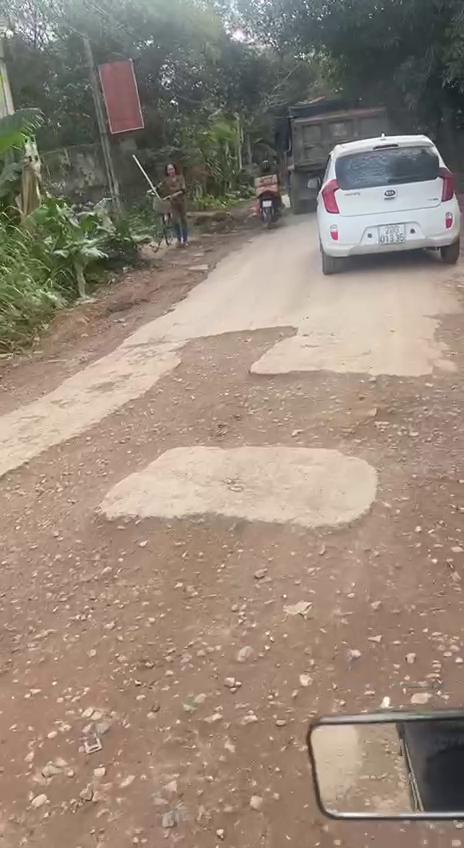pothole: (0, 304, 464, 848)
